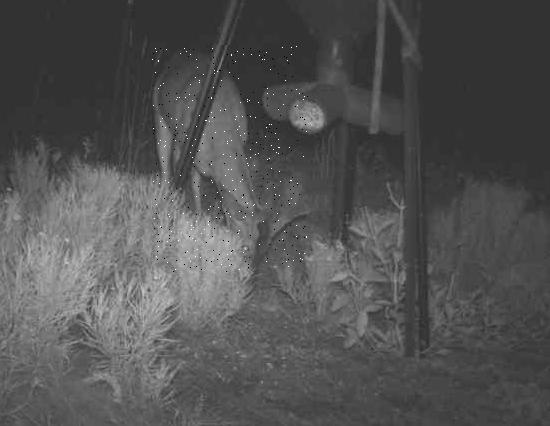Deer: (153, 46, 309, 273)
